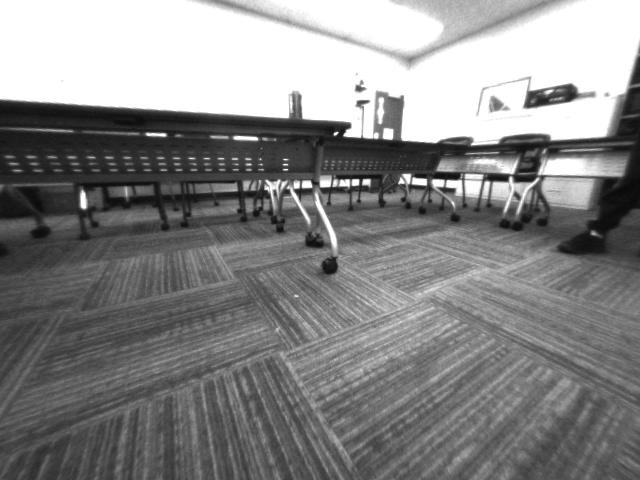can: (285, 87, 306, 118)
